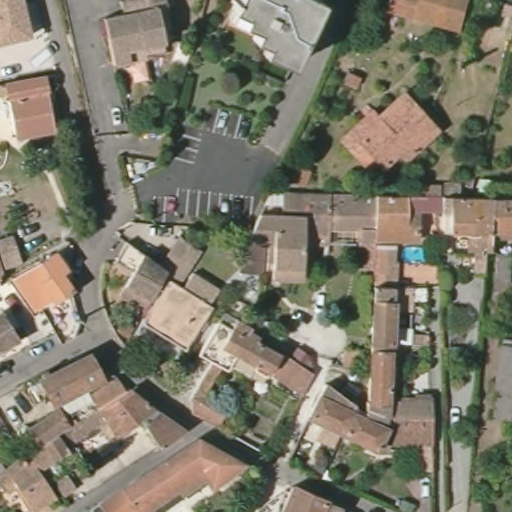pool: (398, 240, 428, 268)
